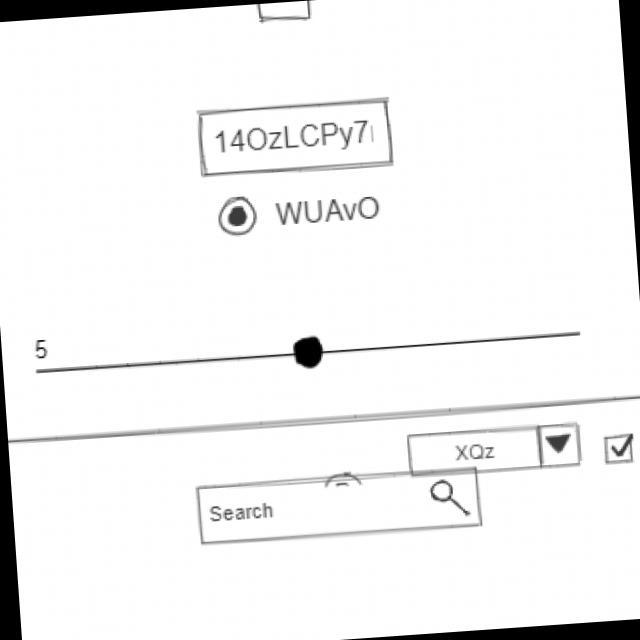button: (193, 92, 402, 184), (251, 1, 318, 27)
checkbox: (598, 429, 640, 465)
container: (8, 389, 640, 640)
radio: (215, 185, 386, 242)
search: (193, 462, 487, 553)
select: (405, 418, 586, 482)
slider: (56, 311, 586, 391)
